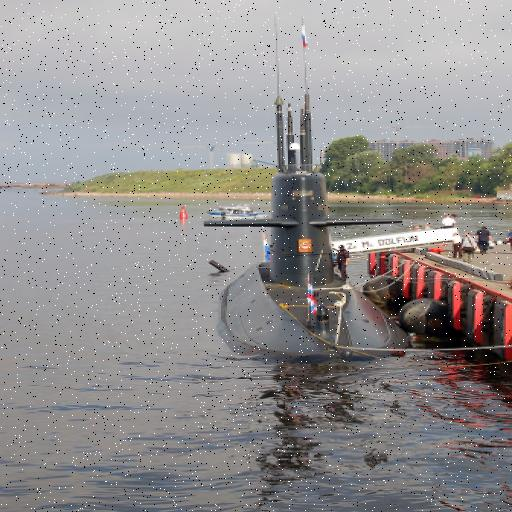submarine: (184, 56, 409, 368)
